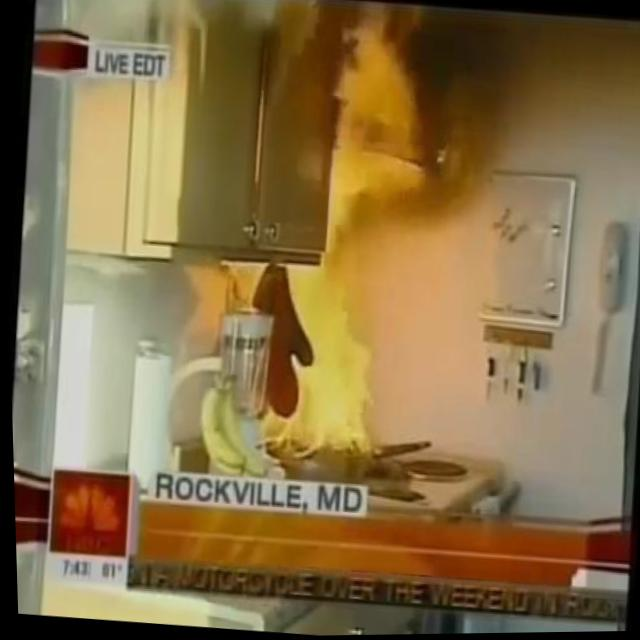fire: (197, 5, 465, 470)
